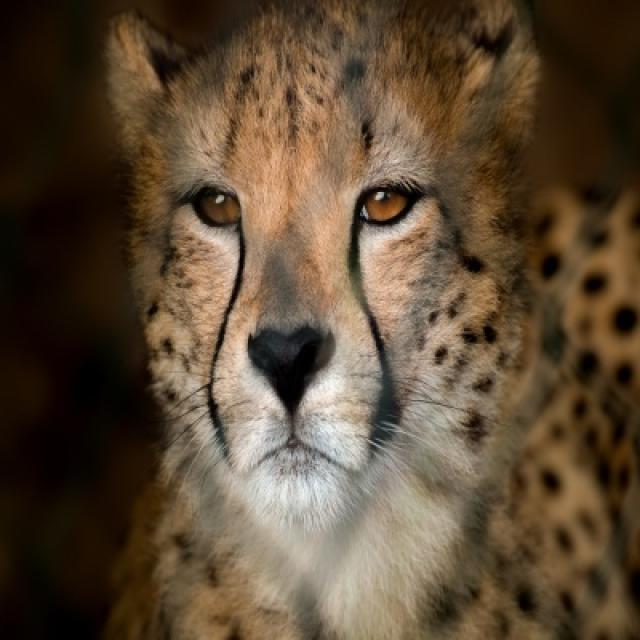Cheetah: (107, 0, 638, 638)
